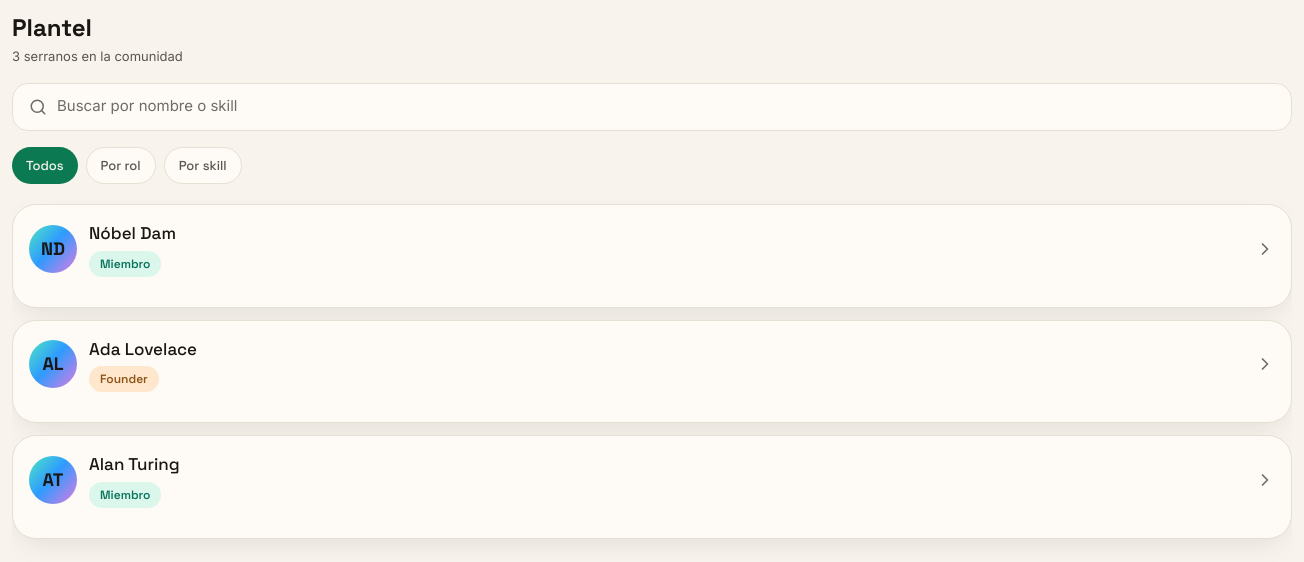
PlantelList › filters by skill name
Type "solidity" into the field labelled "Buscar por nombre o skill". click: (666, 107)
box: [57,95,1275,118]
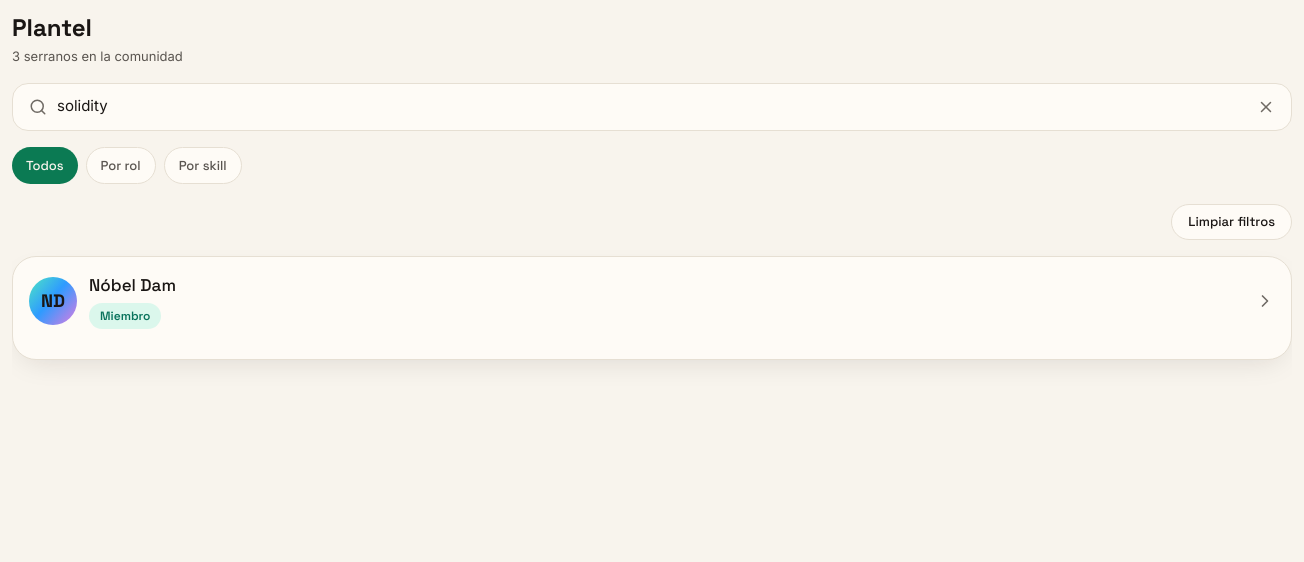
Check: the text "Nóbel Dam" is shown, box [89,273,176,298]
Check: the link "Ada Lovelace" is gone
